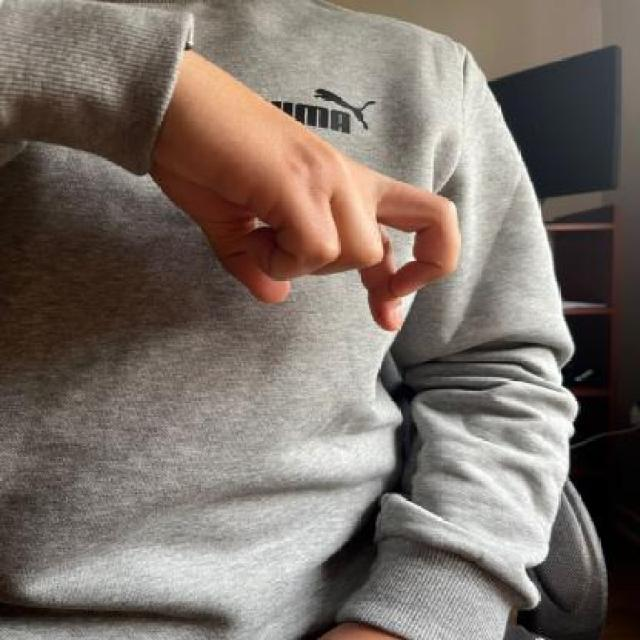P: (127, 29, 475, 343)
